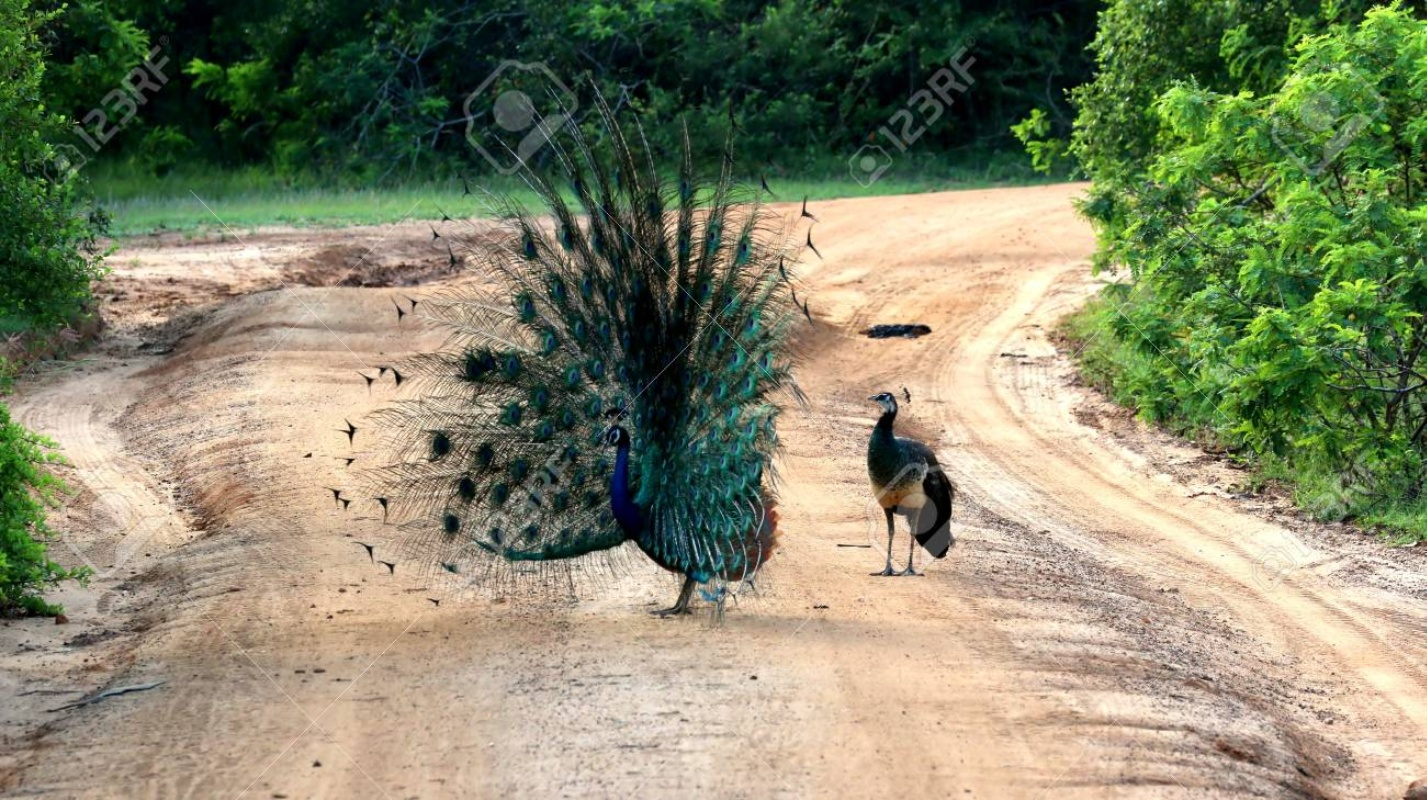pavoreal: (571, 398, 783, 624), (861, 388, 962, 589)
